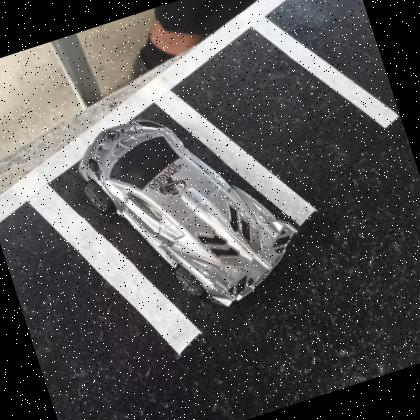Car: (80, 118, 302, 309)
